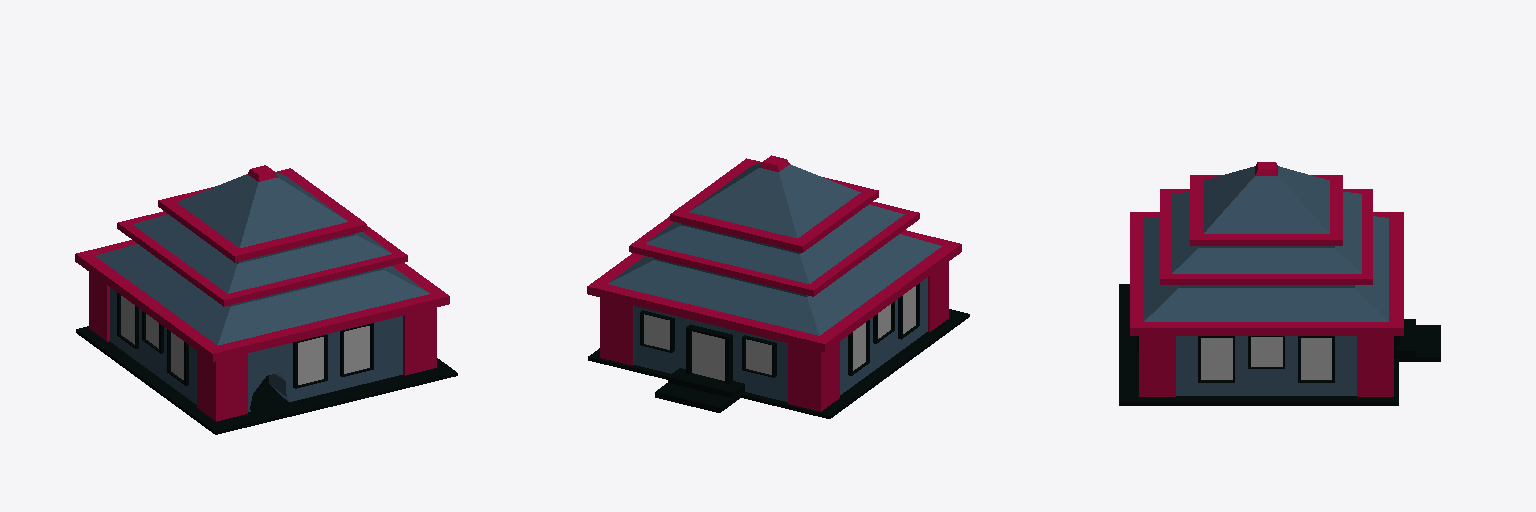
Rendered from House_Secret_A.obj.
3 views of the same model, side by side, from view 1: azimuth 30°, elevation 25°; view 2: azimuth 150°, elevation 25°; view 3: azimuth 270°, elevation 25° (orthographic).
Visible parts, largest first — view 1: House_Secret_A; view 2: House_Secret_A; view 3: House_Secret_A.
Boxes of the visible parts, box(x1,y1,x2,y2) form: House_Secret_A: box(75, 165, 457, 434); House_Secret_A: box(587, 155, 969, 418); House_Secret_A: box(1119, 162, 1440, 405).
Size of the model in its own units: 48.9 by 34.97 by 56.35.